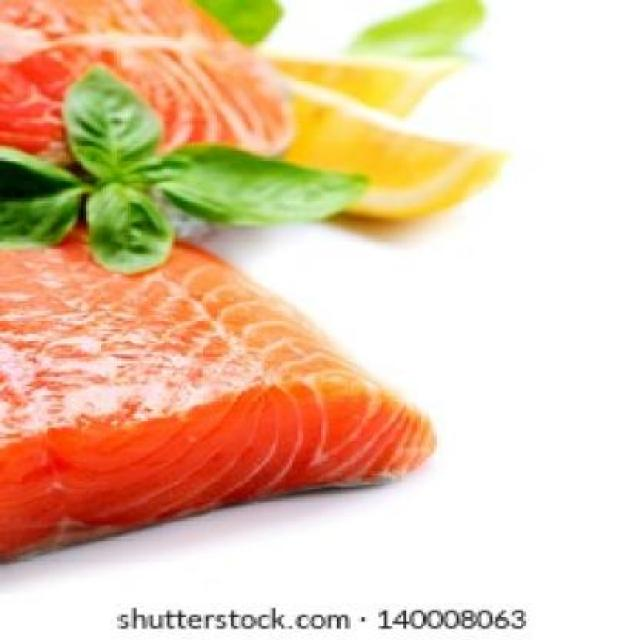salmon: (3, 216, 459, 558)
